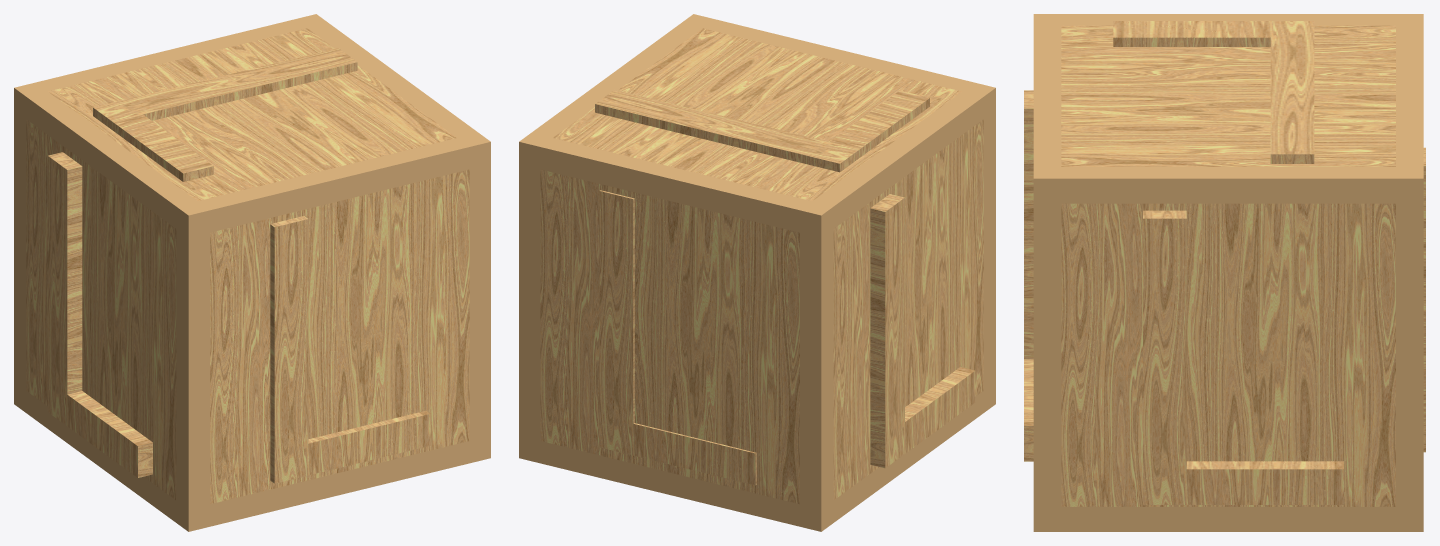
File: block-l.fbx
3 views of the same model, side by side, from view 1: azimuth 30°, elevation 25°; view 2: azimuth 150°, elevation 25°; view 3: azimuth 270°, elevation 25° (orthographic). The views are drawn at different scales.
Parts seen in each view (by area): view 1: Box, FRONT, LEFT, TOP; view 2: Box, BACK, LEFT, TOP; view 3: Box, RIGHT, TOP, FRONT, BACK.
Boxes of the visible parts, x1=… form: Box: x1=14, y1=14, x2=490, y2=531; FRONT: x1=270, y1=216, x2=430, y2=483; LEFT: x1=47, y1=152, x2=152, y2=477; TOP: x1=93, y1=48, x2=357, y2=181; Box: x1=519, y1=14, x2=995, y2=531; BACK: x1=599, y1=190, x2=756, y2=485; LEFT: x1=870, y1=194, x2=975, y2=468; TOP: x1=595, y1=89, x2=929, y2=172; Box: x1=1033, y1=14, x2=1423, y2=531; RIGHT: x1=1143, y1=210, x2=1343, y2=504; TOP: x1=1113, y1=21, x2=1314, y2=163; FRONT: x1=1024, y1=90, x2=1033, y2=461; BACK: x1=1423, y1=147, x2=1425, y2=452.
Bounding box in the file's own units: 1.1 × 1.04 × 1.03.
2 materials, 2 textured.
